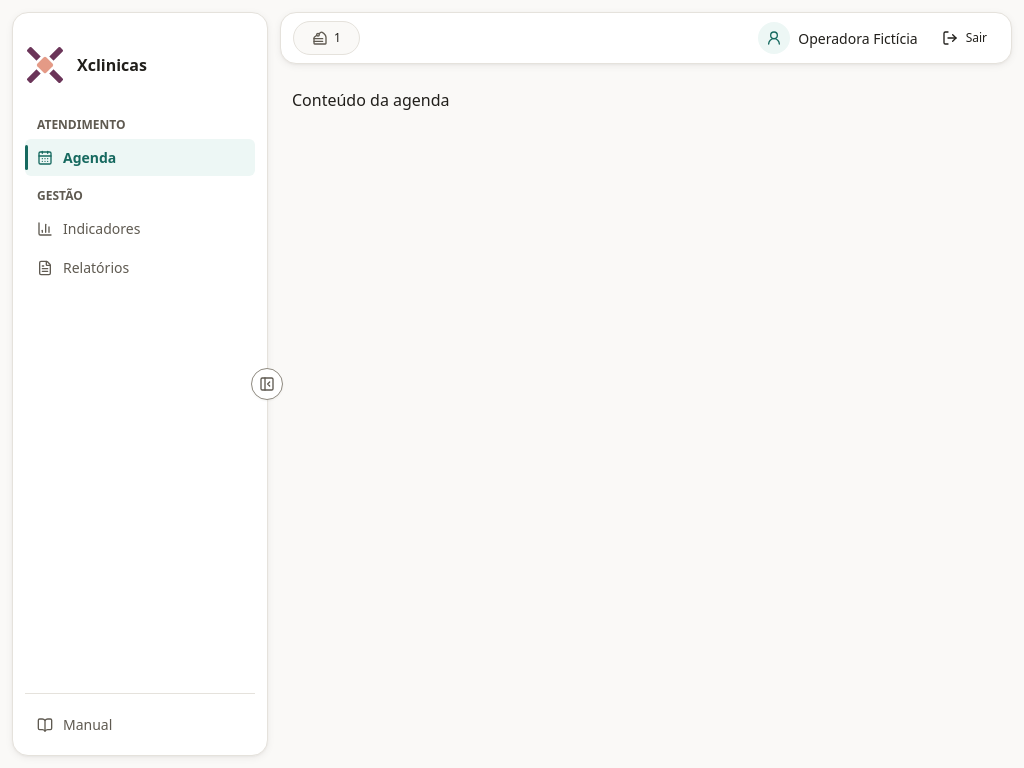
Scenario: AppShell — painéis de notificação › deve NÃO linkar a ficha do aniversariante sem `pacientes.ver`
The width and height of the screenshot is (1024, 768).
Click the button named "Aniversariantes".
click(326, 38)  # box [304,26,349,50]
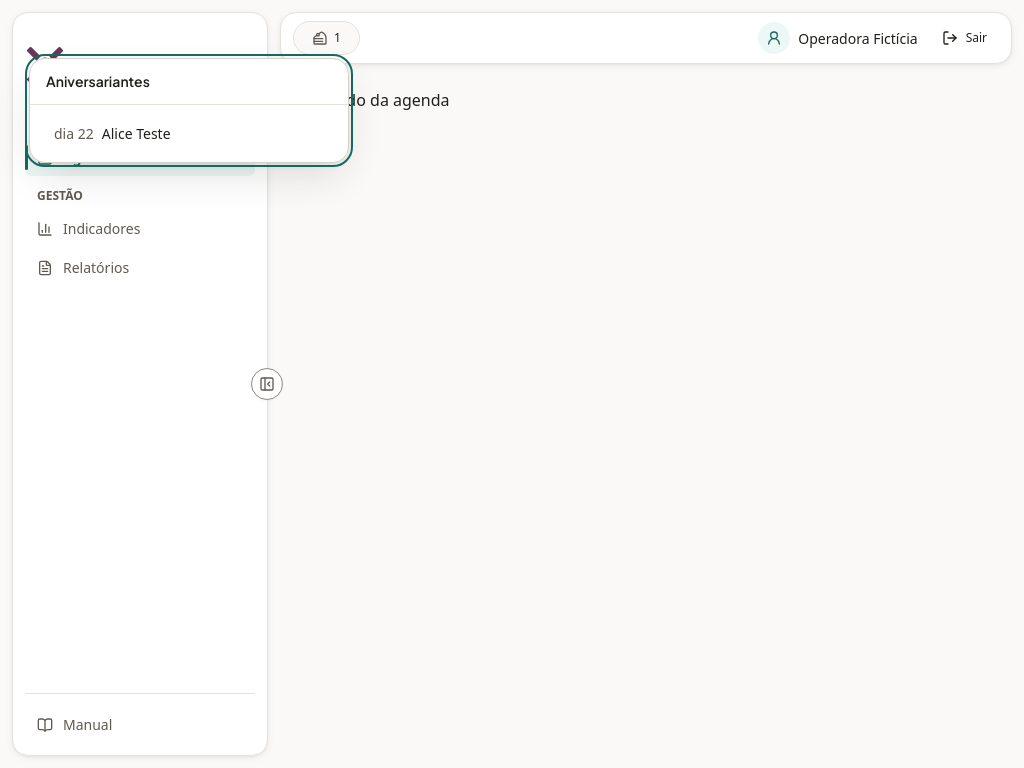
Check: the dialog "Aniversariantes" shows "Alice Teste", box [102,124,171,143]
